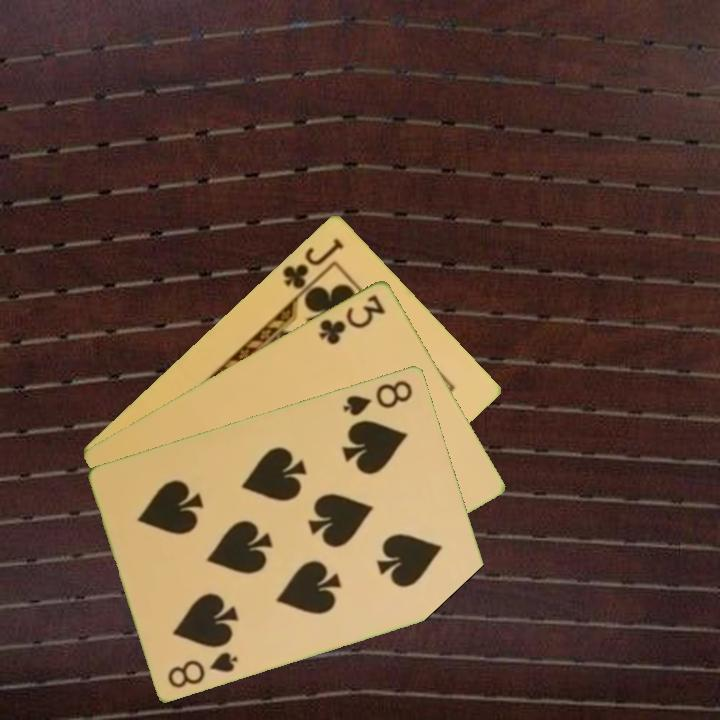3c: (315, 290, 389, 348)
8s: (164, 647, 241, 691), (339, 376, 416, 419)
Jc: (279, 234, 347, 292)
